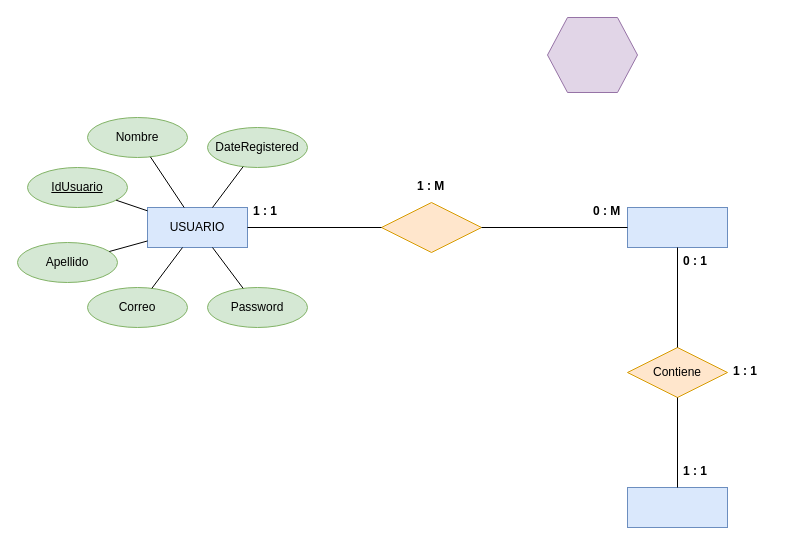
Image size: 785x545. Some labels were removed from this diagram. The centre of each missing label's shape, as x and y in pixels:
"CAPTURA" belongs at point 677,227.
"CARTA" belongs at point 677,507.
"Cliente, Proveedor" belongs at point 592,54.
"Realiza" belongs at point 431,227.
